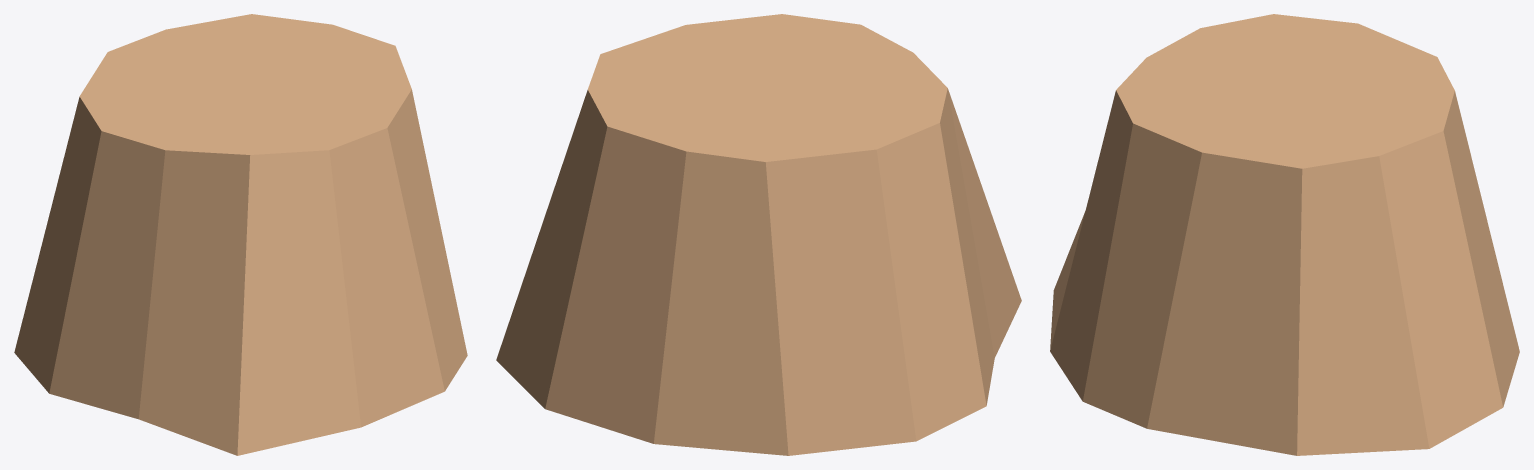
File: Mesa_B.glb
The picture shows the model from 3 angles, left to right: view 1: azimuth 30°, elevation 25°; view 2: azimuth 150°, elevation 25°; view 3: azimuth 270°, elevation 25°; orthographic projection. The views are drawn at different scales.
Visible parts, largest first — view 1: Mesa_B; view 2: Mesa_B; view 3: Mesa_B.
Part boxes in pixels (x1,y1,x2,y2): Mesa_B: (14, 14, 467, 455); Mesa_B: (496, 14, 1021, 455); Mesa_B: (1050, 14, 1519, 455).
Size of the model in its own units: 26.83 by 16 by 26.04.
